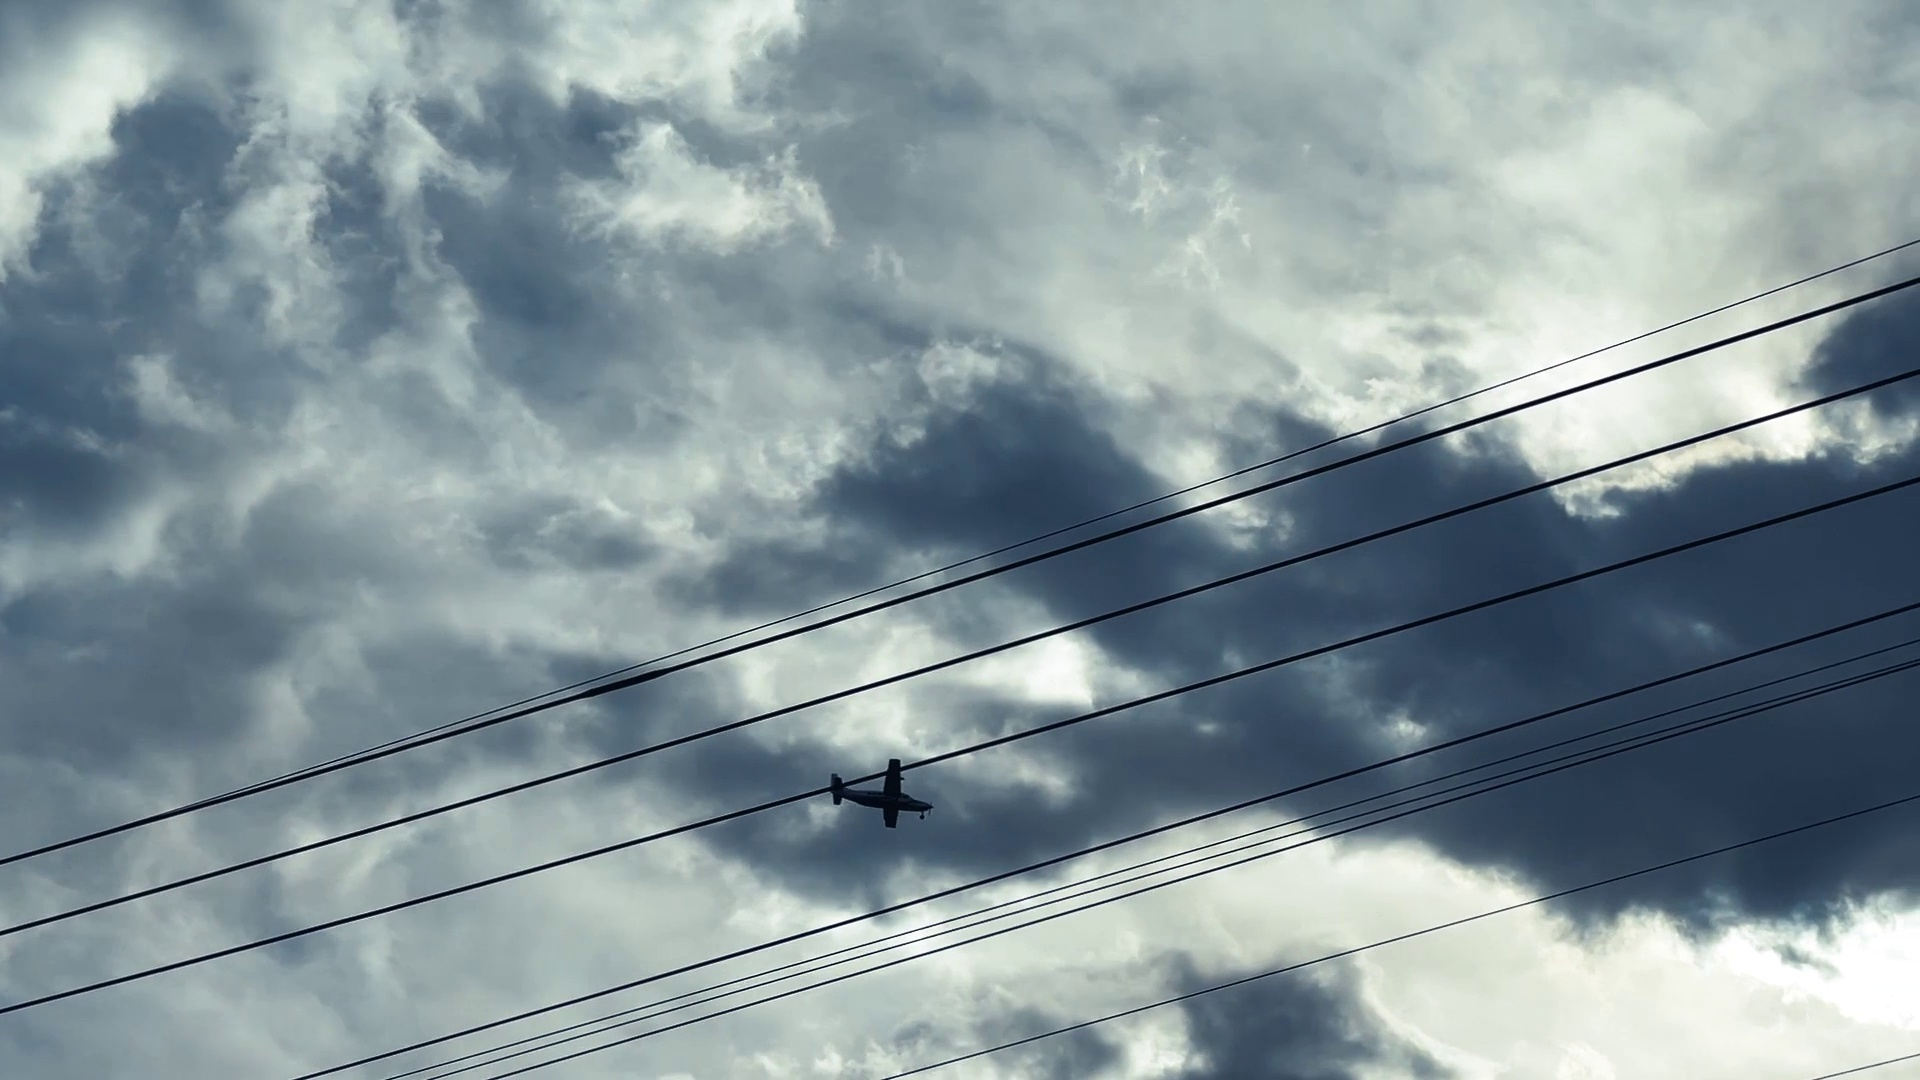plane: (829, 757, 934, 833)
